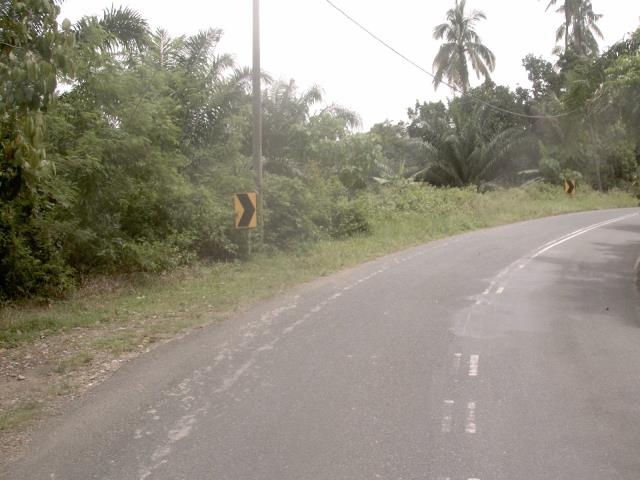traffic_sign: (227, 185, 264, 236)
